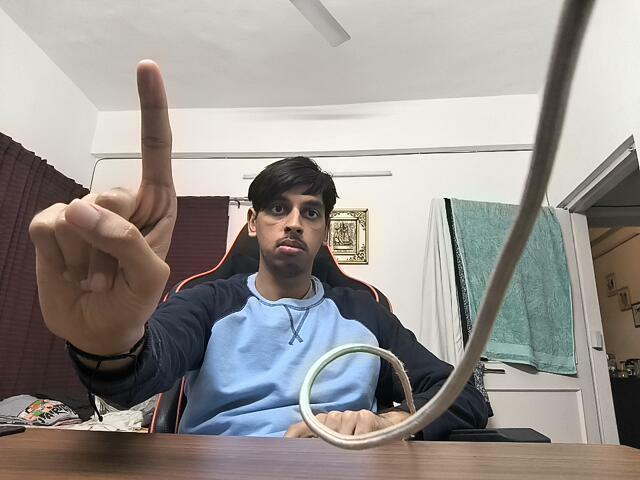UP: (25, 54, 181, 373)
